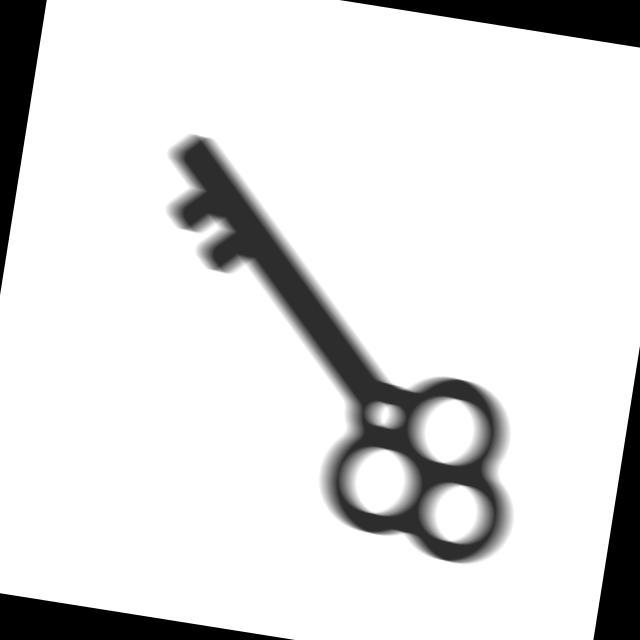key: (106, 123, 576, 581)
